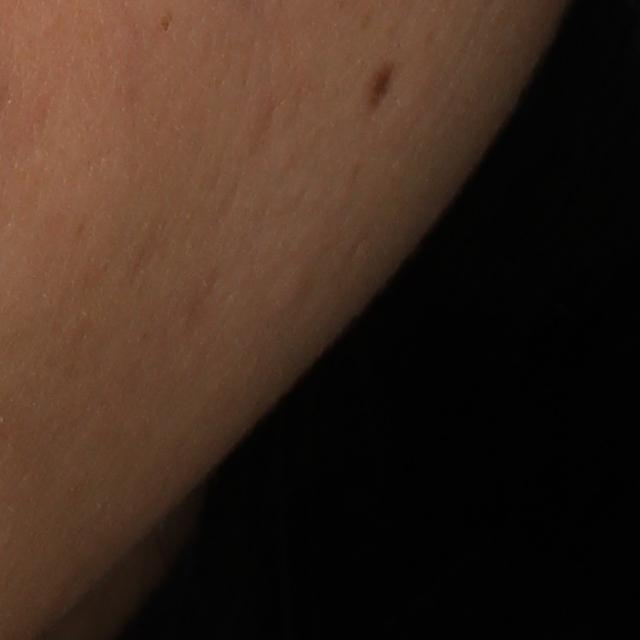nevus: (366, 60, 399, 111)
